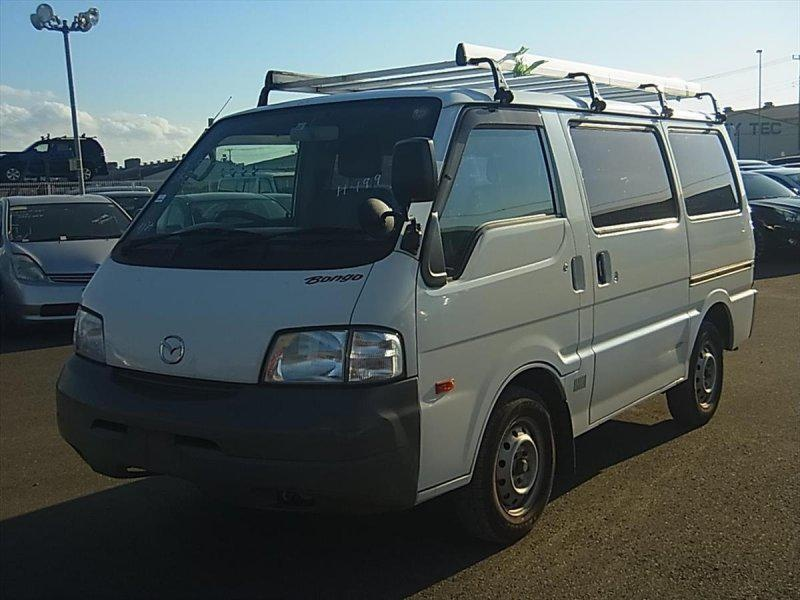van: (59, 60, 751, 533)
